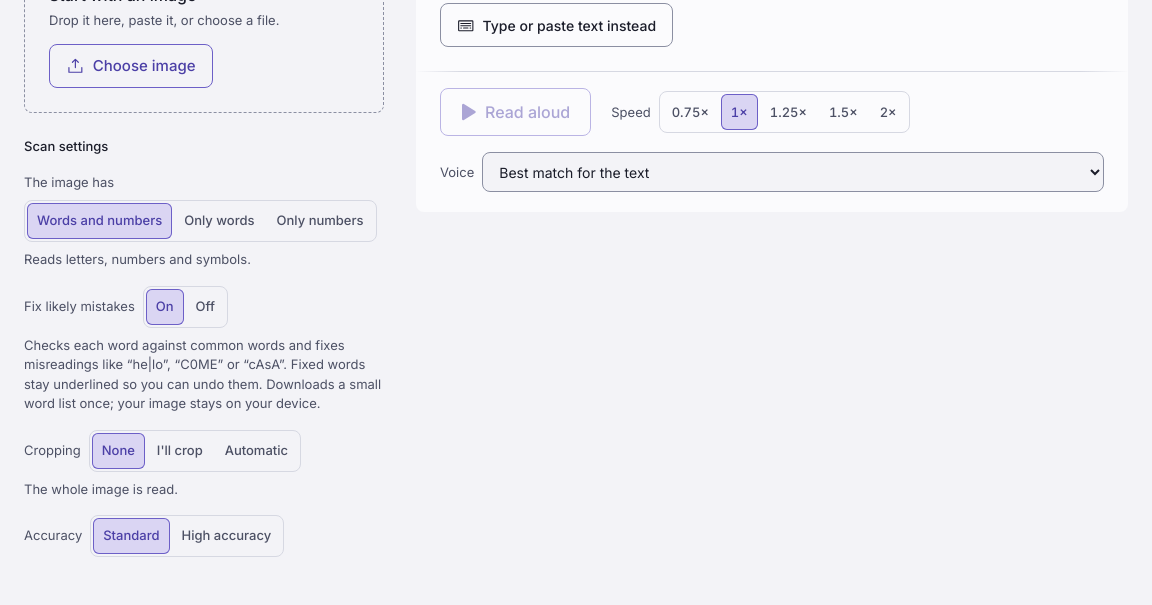
Test: App › passes automatic cropping and high accuracy to OCR, with a warning
(page scrolled)
Click the radio button labelled "Automatic": (256, 450) [225,442,288,458]
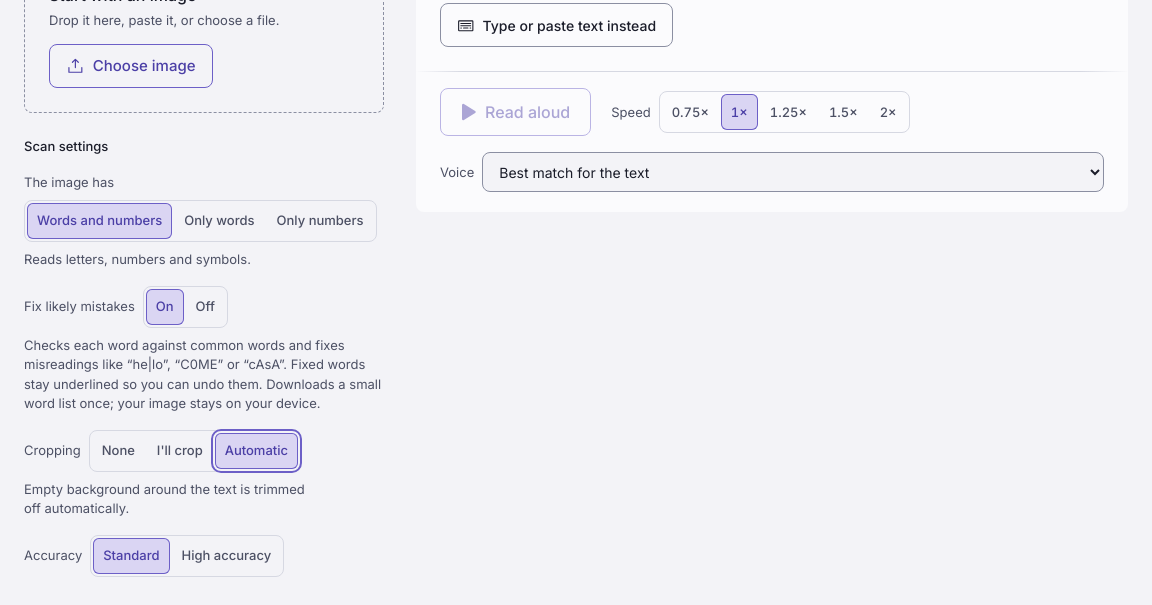
Click the radio button labelled "High accuracy": (226, 555) [182,547,271,563]
(page scrolled)
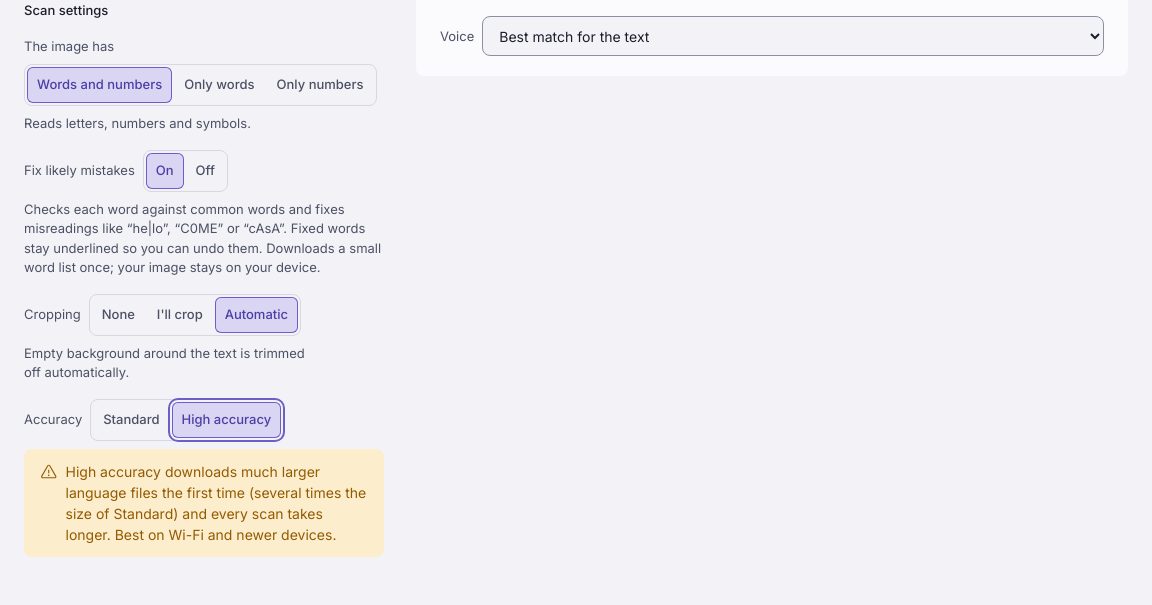
Check: the text "downloads much larger language files" is shown, box [66,463,366,543]
